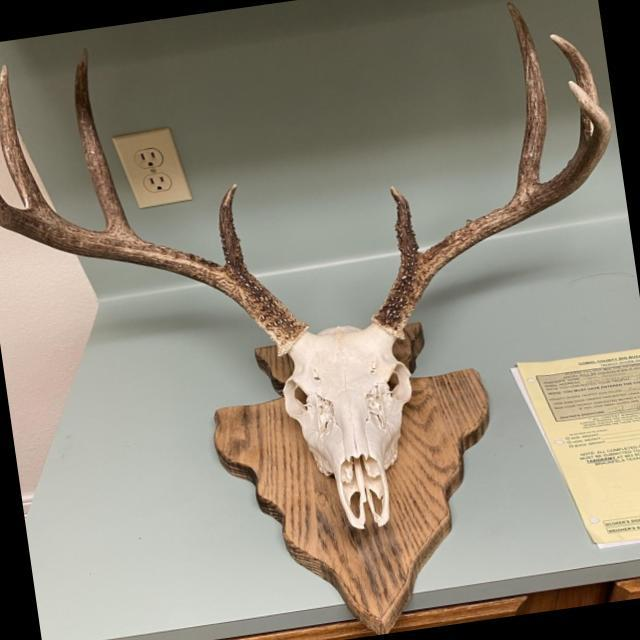L-F: (374, 79, 612, 330)
L-G1: (392, 188, 419, 262)
L-G2: (508, 3, 548, 195)
R-F: (0, 194, 305, 344)
R-G1: (217, 184, 251, 276)
R-G2: (75, 50, 129, 231)
R-G3: (0, 67, 45, 208)
